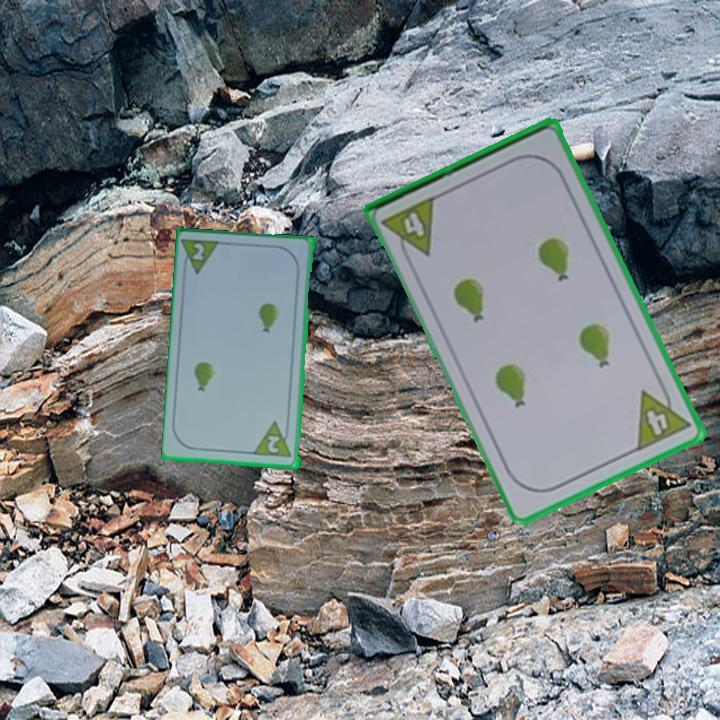2p: (180, 235, 225, 278), (264, 432, 283, 456)
4p: (633, 378, 694, 455), (378, 192, 439, 266)
